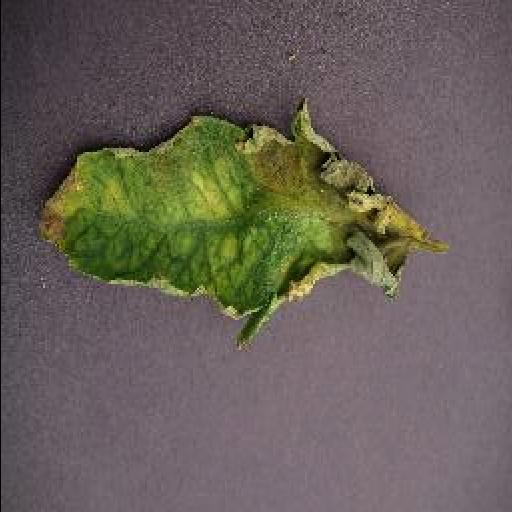disease_tomato: (38, 98, 416, 350)
